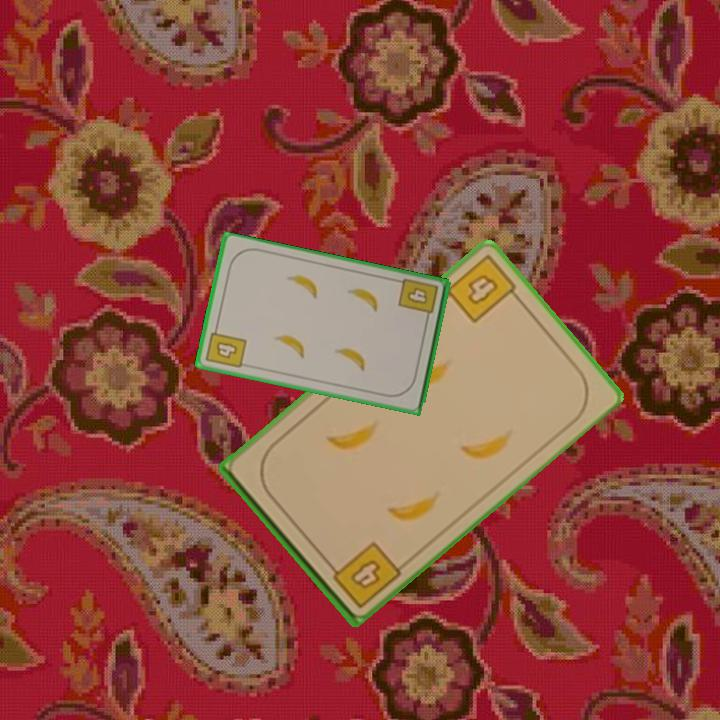4b: (442, 251, 524, 326), (322, 537, 403, 611), (202, 322, 249, 371), (395, 275, 441, 325)
